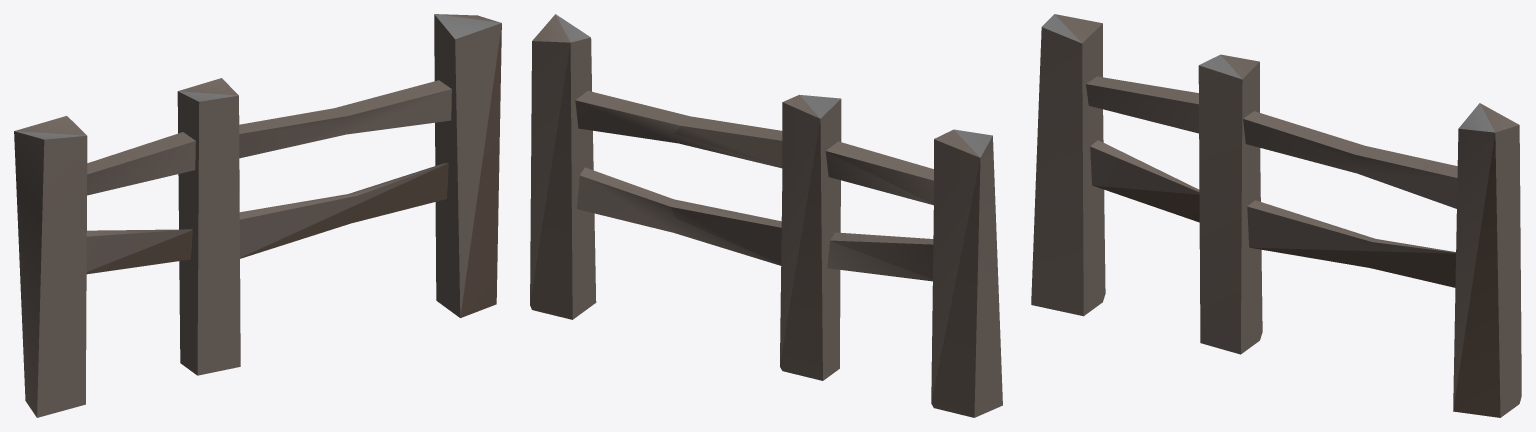
File: Fence 1.fbx
The picture shows the model from 3 angles, left to right: view 1: azimuth 30°, elevation 25°; view 2: azimuth 150°, elevation 25°; view 3: azimuth 330°, elevation 25°; orthographic projection. The views are drawn at different scales.
Parts seen in each view (by area): view 1: pasted__Fence4; view 2: pasted__Fence4; view 3: pasted__Fence4.
Boxes of the visible parts, x1,y1,x2,y2 form: pasted__Fence4: (14, 14, 501, 417); pasted__Fence4: (530, 14, 1002, 417); pasted__Fence4: (1031, 14, 1521, 417).
Bounding box in the file's own units: 20.81 × 12.29 × 2.08.
